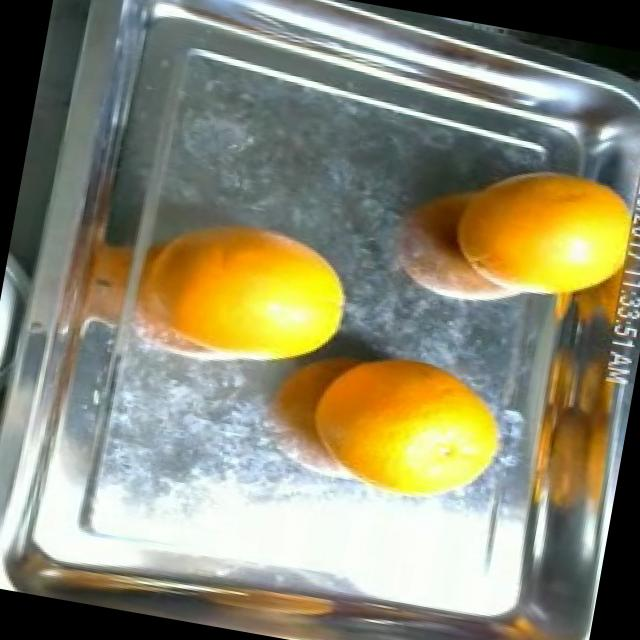Fruit: (294, 327, 532, 535), (428, 137, 640, 326), (165, 204, 370, 387)
